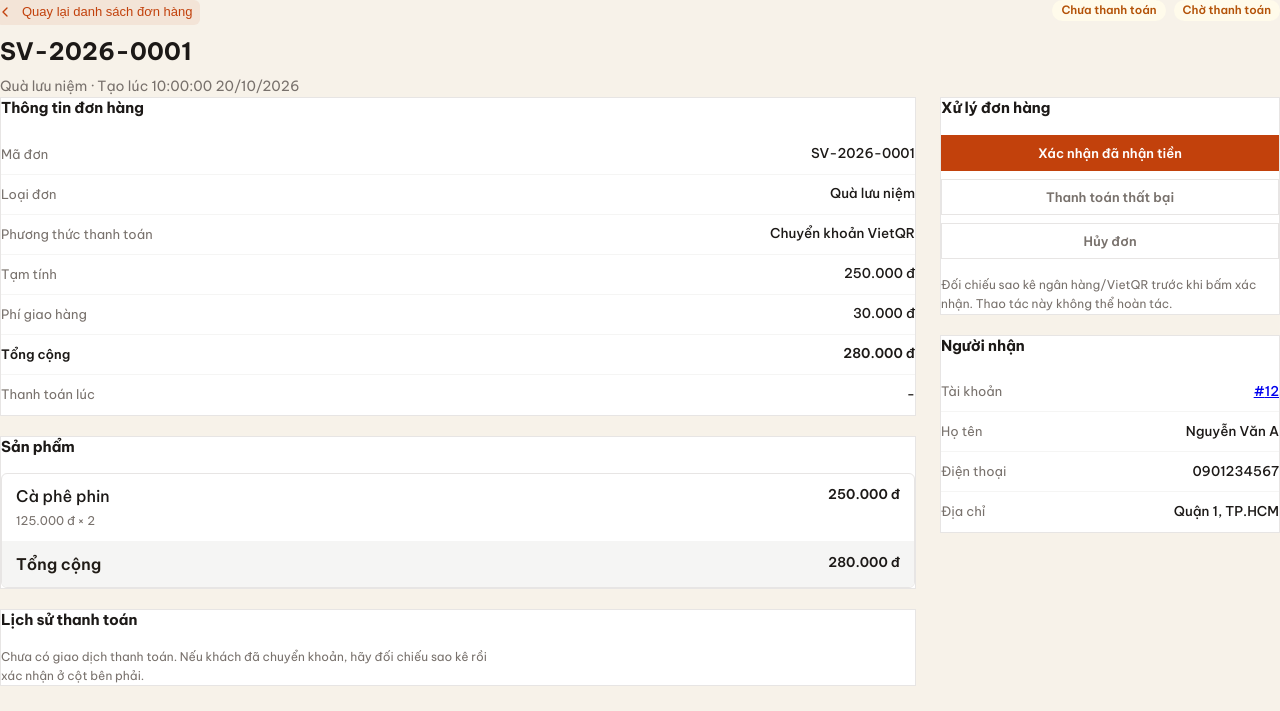
OrderDetailPage › xác nhận đã nhận tiền cho đơn chờ thanh toán
Click the button "Xác nhận đã nhận tiền" at (1110, 153), box [941, 135, 1279, 171]
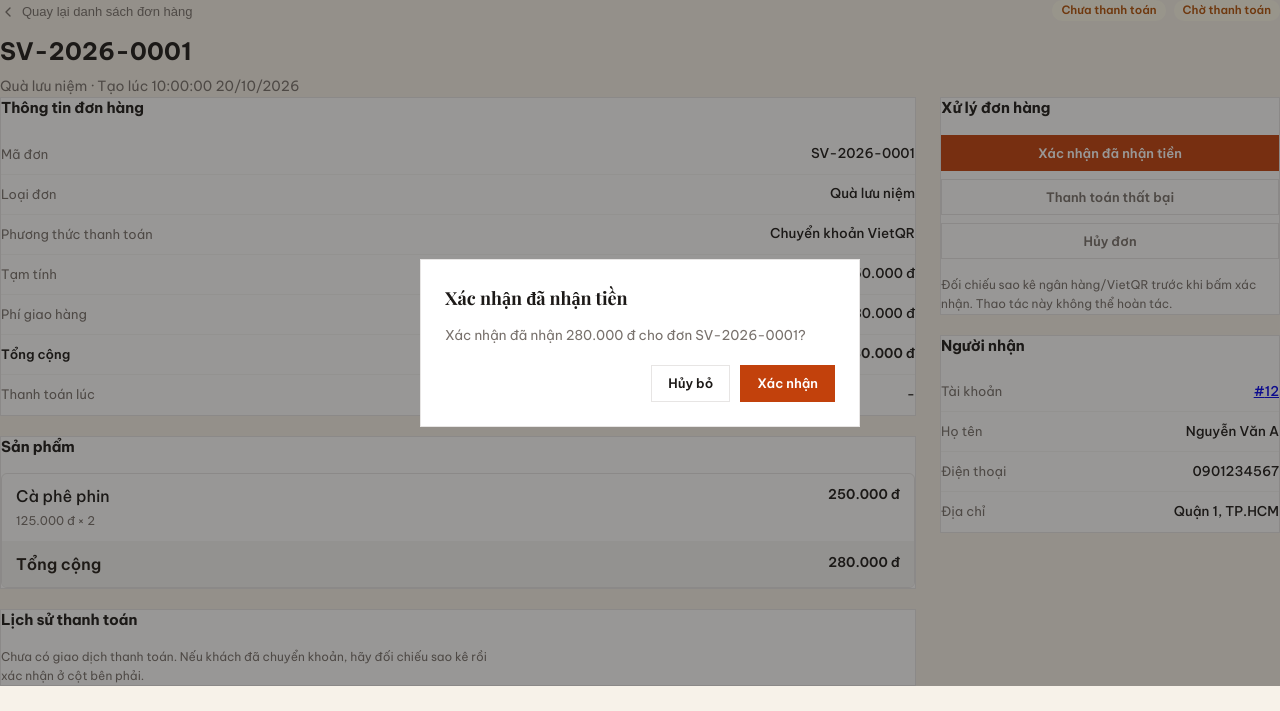
Expected: the text "Xác nhận đã nhận 280.000 đ cho đơn SV-2026-0001?" is shown, [445, 325, 835, 345]
Click the button "Xác nhận" at (788, 384), box [740, 365, 835, 402]
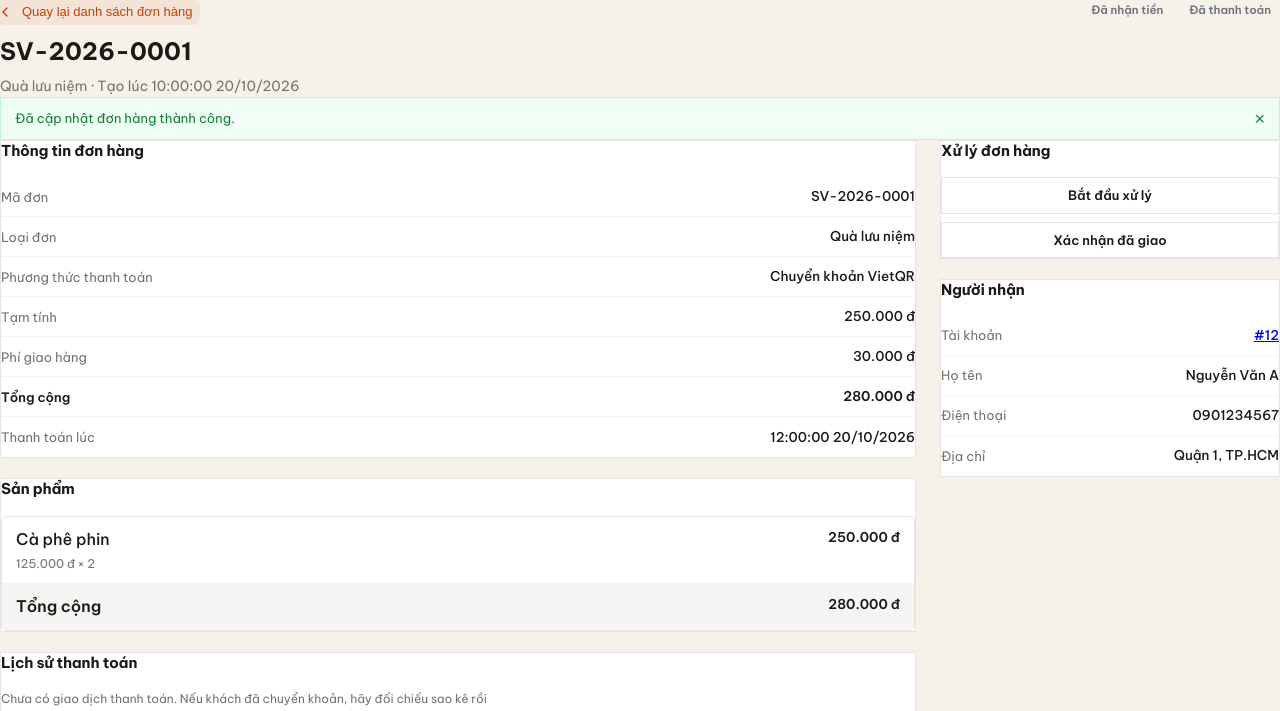
Expected: the text "Đã cập nhật đơn hàng thành công." is shown, [15, 108, 235, 129]
Expected: the text "Đã nhận tiền" is shown, [1091, 2, 1163, 17]
